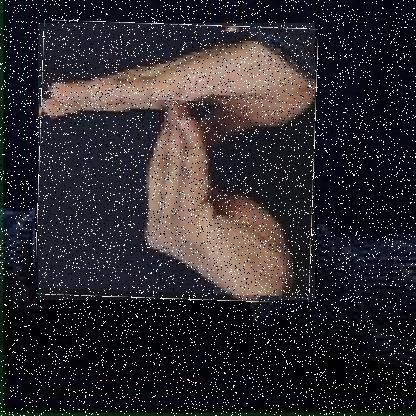Z: (37, 23, 315, 301)
